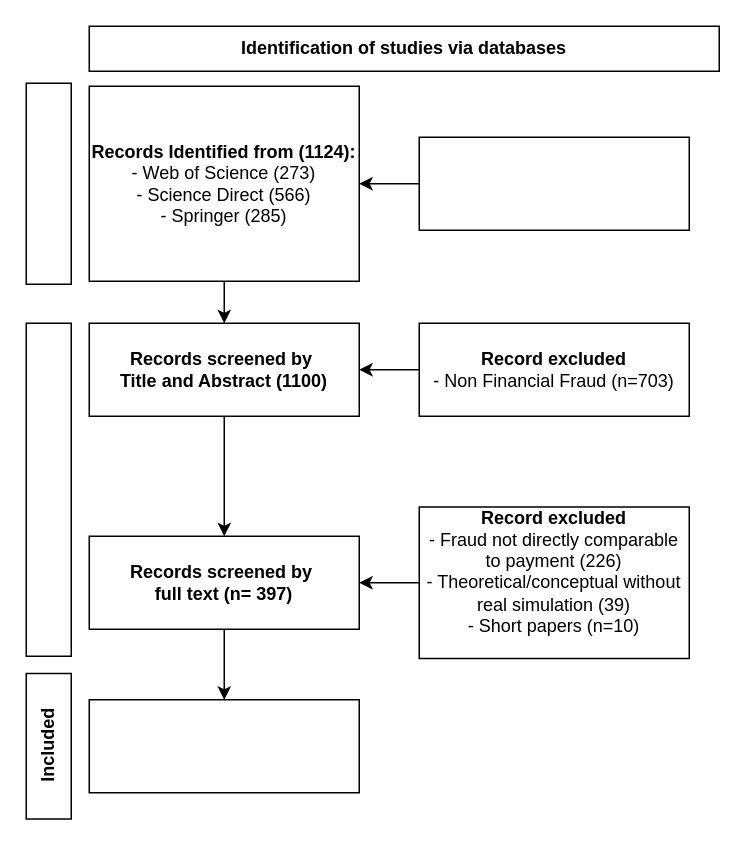
Some shapes in this 746 by 846 pixel diagram are drawn without their labels. The box of each missing label's shape, as (x1, y1, x2, y2) in pixels:
Identification: (25, 82, 71, 284)
Record removed before screening: - Duplicated records removed (n=24): (418, 136, 689, 230)
Reports of included studies (n=122): (88, 698, 359, 793)
Screening: (25, 322, 71, 656)
